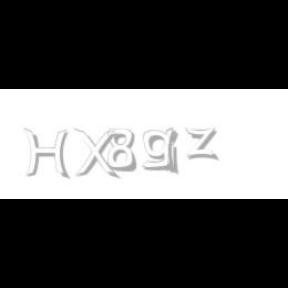8: (108, 128, 136, 172)
H: (24, 128, 70, 180)
X: (73, 128, 117, 180)
g: (142, 128, 180, 171)
i: (166, 128, 182, 176)
z: (185, 128, 221, 160)
